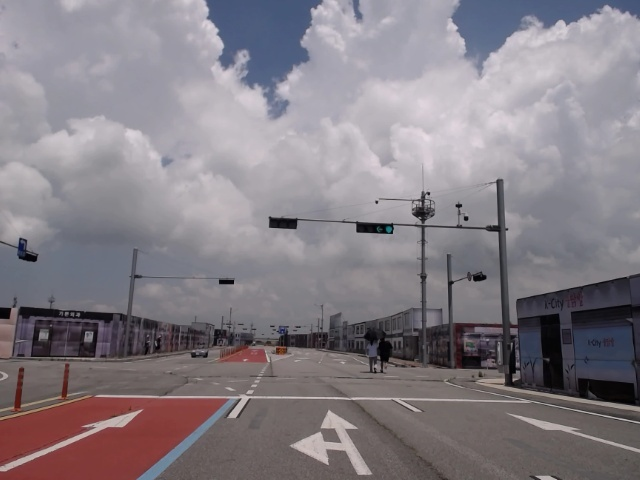all_green_4: (354, 222, 395, 236)
